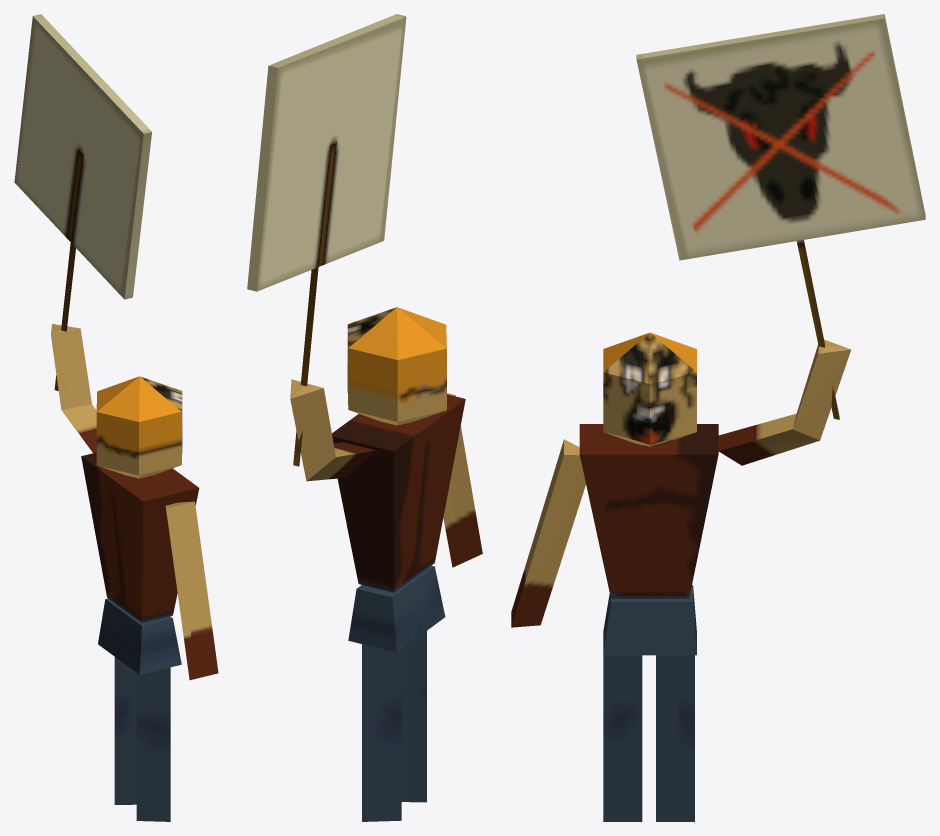
File: Crowd2.glb
3 views of the same model, side by side, from view 1: azimuth 30°, elevation 25°; view 2: azimuth 150°, elevation 25°; view 3: azimuth 270°, elevation 25° (orthographic). The views are drawn at different scales.
Parts seen in each view (by area): view 1: Crowd2; view 2: Crowd2; view 3: Crowd2.
Boxes of the visible parts, x1,y1,x2,y2 form: Crowd2: [14, 14, 218, 821]; Crowd2: [247, 14, 482, 821]; Crowd2: [511, 14, 925, 821].
Bounding box in the file's own units: 28.93 × 231 × 108.
1 material, 1 textured.
